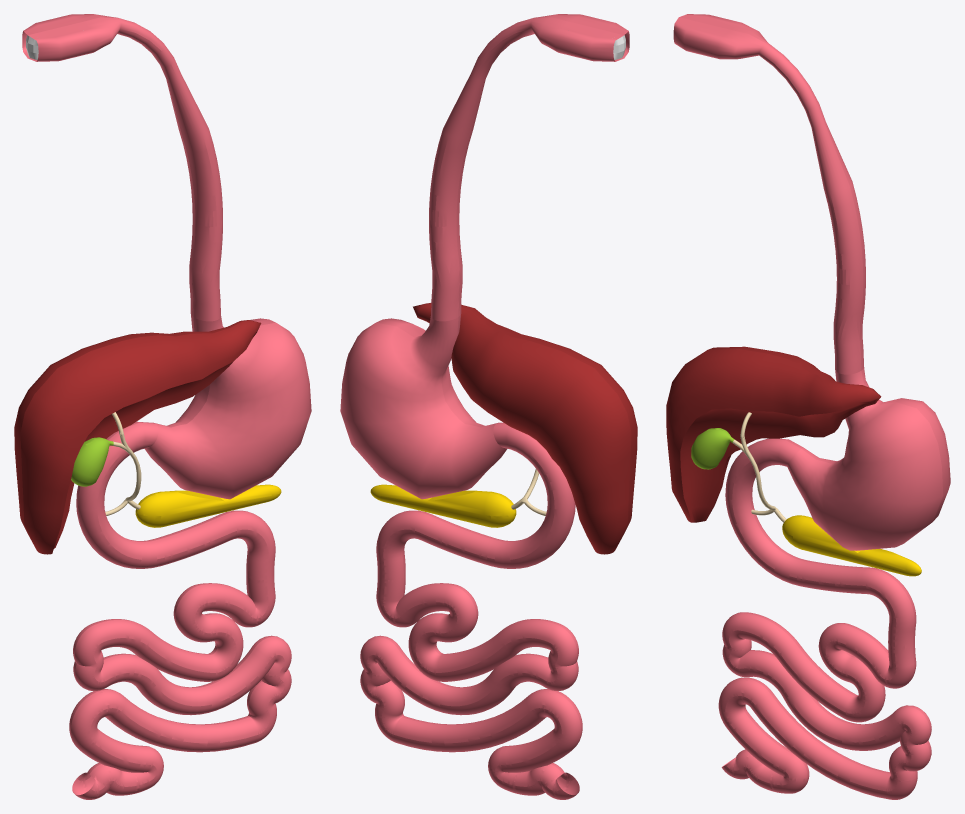
File: endoTract.FBX
The picture shows the model from 3 angles, left to right: view 1: azimuth 30°, elevation 25°; view 2: azimuth 150°, elevation 25°; view 3: azimuth 330°, elevation 25°; orthographic projection. The views are drawn at different scales.
Parts seen in each view (by area): view 1: intestines, liver (×2), stomach, esophagus, duodenum, biliary_duct, tract; view 2: intestines, liver (×2), stomach, esophagus, duodenum, biliary_duct; view 3: intestines, liver (×2), stomach, esophagus, duodenum, biliary_duct, tract.
Boxes of the visible parts, <box> form: intestines: <box>69,510,291,799</box>; liver (×2): <box>14,320,261,554</box>; stomach: <box>144,314,311,499</box>; esophagus: <box>22,14,222,321</box>; duodenum: <box>76,421,187,568</box>; biliary_duct: <box>135,484,281,527</box>; tract: <box>71,412,141,515</box>; intestines: <box>360,510,582,799</box>; liver (×2): <box>413,303,637,554</box>; stomach: <box>340,314,507,499</box>; esophagus: <box>429,14,629,321</box>; duodenum: <box>464,422,575,568</box>; biliary_duct: <box>370,484,516,527</box>; intestines: <box>718,563,931,799</box>; liver (×2): <box>666,346,881,522</box>; stomach: <box>787,367,950,550</box>; esophagus: <box>673,14,865,374</box>; duodenum: <box>725,438,825,589</box>; biliary_duct: <box>782,515,921,576</box>; tract: <box>691,412,786,522</box>.
Bounding box in the file's own units: 62.02 × 164 × 22.28.
